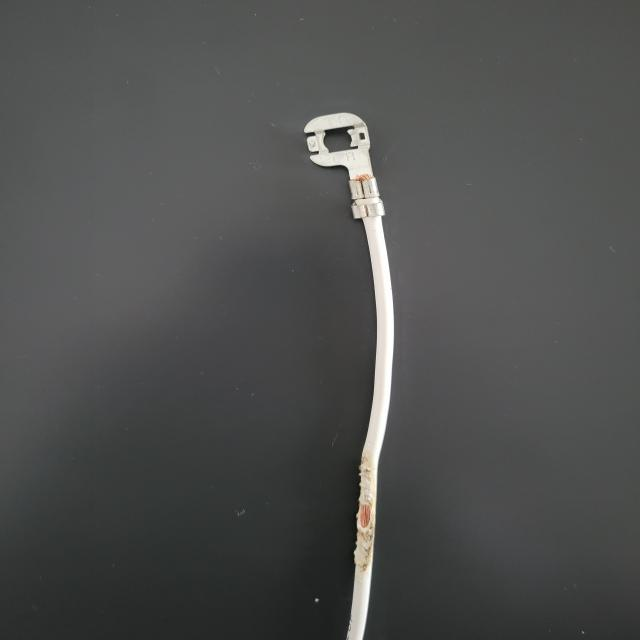defect: (331, 448, 404, 598)
